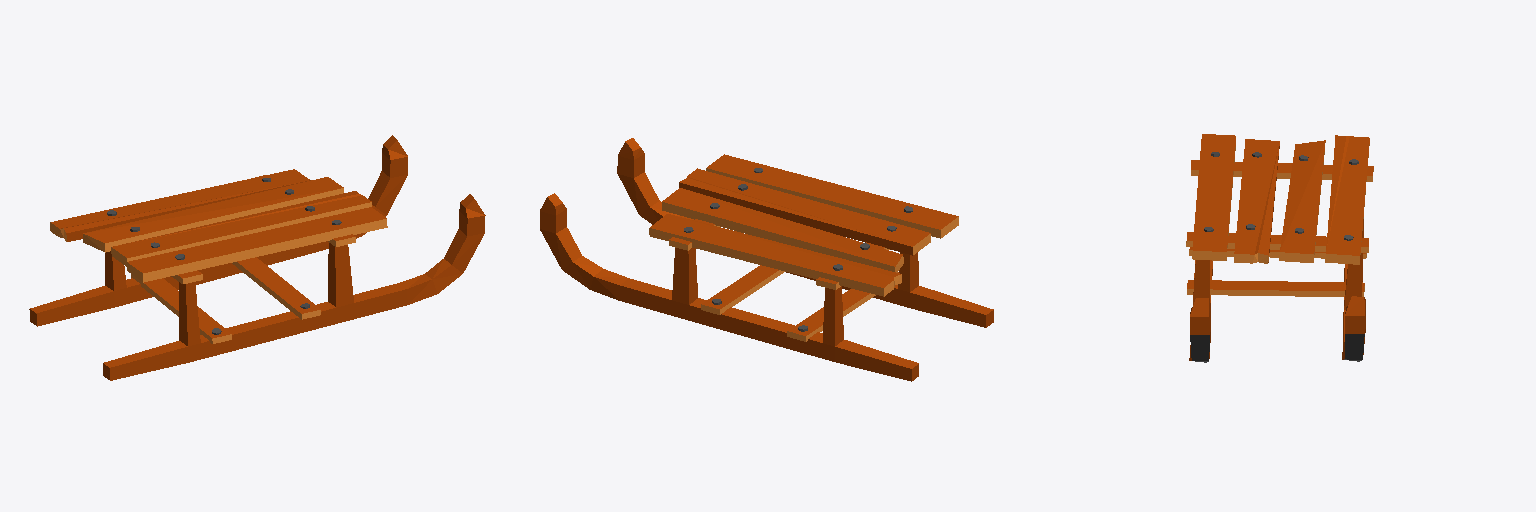
3 renders of one model, left to right at view 1: azimuth 30°, elevation 25°; view 2: azimuth 150°, elevation 25°; view 3: azimuth 270°, elevation 25°, orthographic.
Visible parts, largest first — view 1: group[number redacted]; view 2: group[number redacted]; view 3: group[number redacted].
Boxes of the visible parts, box(x1,y1,x2,y2) form: group[number redacted]: box(29, 135, 485, 380); group[number redacted]: box(540, 138, 993, 381); group[number redacted]: box(1186, 134, 1373, 362).
Bounding box in the file's own units: 0.8697 × 0.227 × 0.3792.